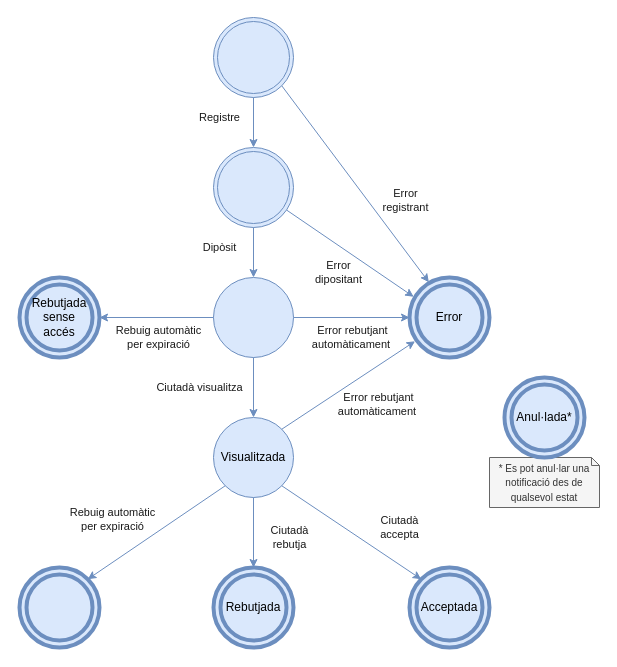
This 617x667 diagram has some shape labels left out. Each missing label, with the centre of its shape:
"Dipositada" goes at (253,317).
"Pendent de registrar" goes at (253,57).
"Rebutjada sense acció" goes at (59,607).
"Registrada" goes at (253,187).
